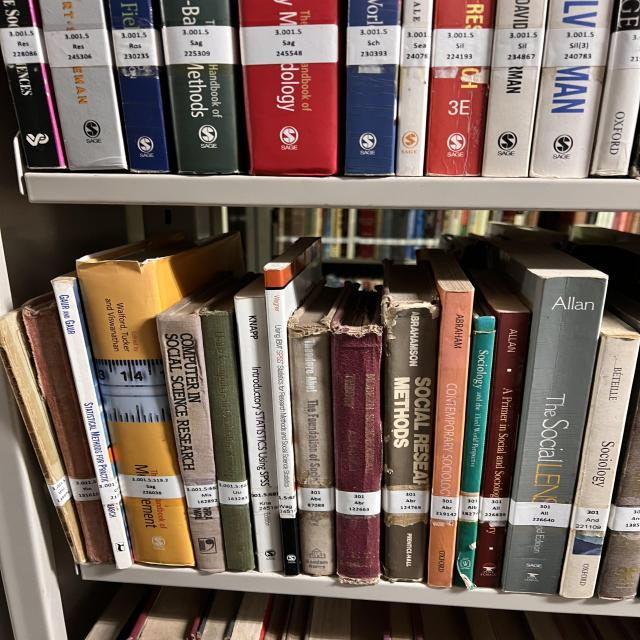Book: (77, 232, 245, 566), (492, 241, 608, 594), (22, 294, 113, 564), (157, 278, 240, 572), (52, 272, 133, 569), (560, 312, 640, 599), (0, 309, 87, 564), (263, 236, 322, 575), (468, 269, 530, 588), (382, 262, 440, 581), (420, 249, 473, 588), (240, 0, 340, 176), (288, 286, 342, 576), (332, 285, 383, 584), (200, 298, 255, 571), (40, 0, 127, 170), (530, 0, 613, 178), (160, 0, 243, 174), (235, 278, 282, 571), (425, 0, 495, 176), (453, 306, 495, 589), (482, 0, 547, 178), (108, 0, 172, 172), (345, 0, 402, 176), (597, 385, 640, 599), (590, 0, 640, 176), (397, 0, 433, 176)
Label: (240, 24, 338, 65), (162, 25, 237, 65), (45, 29, 112, 68), (543, 28, 608, 68), (432, 29, 493, 68), (347, 25, 400, 65), (492, 29, 545, 68), (112, 29, 163, 66), (508, 500, 572, 528), (0, 26, 47, 64), (118, 474, 185, 499), (335, 489, 382, 516), (608, 30, 640, 69), (382, 488, 430, 514), (400, 28, 432, 66), (570, 506, 610, 531), (297, 488, 335, 511), (608, 504, 640, 531), (218, 480, 250, 505), (185, 484, 218, 508), (430, 495, 460, 521), (47, 476, 72, 506), (68, 478, 100, 501), (478, 498, 510, 521), (458, 491, 480, 521), (98, 479, 122, 504), (252, 489, 278, 512), (278, 492, 297, 518)
